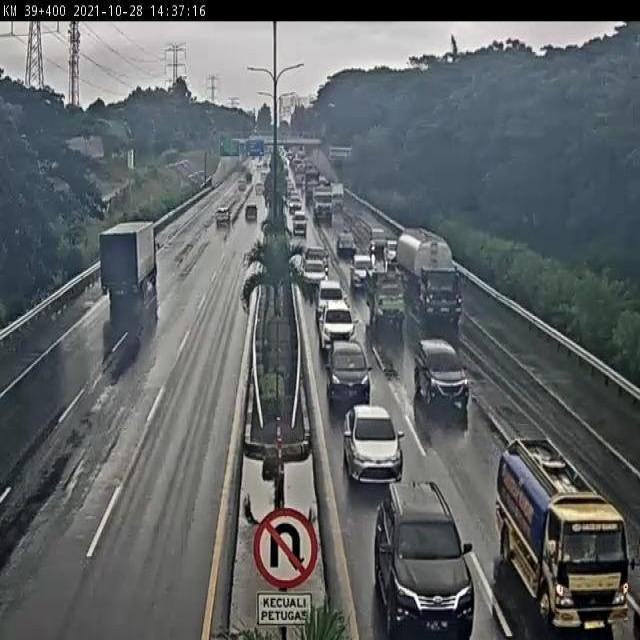big truck: (393, 224, 475, 332), (94, 216, 168, 307), (310, 181, 335, 220)
car: (373, 475, 473, 636), (405, 331, 484, 426), (341, 399, 399, 476), (324, 332, 371, 403), (322, 303, 355, 349), (315, 275, 346, 321), (345, 245, 374, 284), (299, 253, 324, 290), (333, 228, 359, 255), (366, 224, 386, 255), (301, 240, 329, 261), (212, 208, 230, 232), (291, 210, 308, 233), (242, 205, 258, 228)
small truck: (493, 420, 640, 640), (363, 269, 402, 328)
